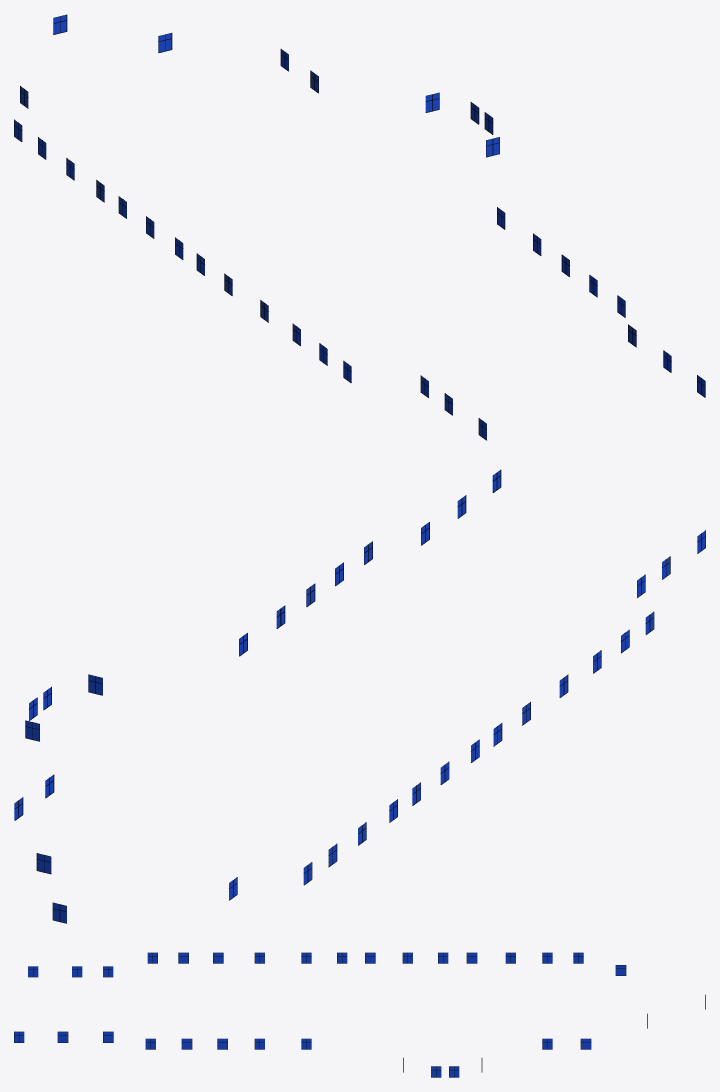
The picture shows the model from 3 angles, top to bottom: view 1: azimuth 30°, elevation 25°; view 2: azimuth 150°, elevation 25°; view 3: azimuth 270°, elevation 25°; orthographic projection. The views are drawn at different scales.
Visible parts, largest first — view 1: SM_窗户; view 2: SM_窗户; view 3: SM_窗户.
Part boxes in pixels (box(x1,y1,x2,y2)): SM_窗户: box(14, 14, 705, 440); SM_窗户: box(14, 469, 705, 923); SM_窗户: box(14, 952, 705, 1077).
Bounding box in the file's own units: 34693 × 1583 × 88975.
